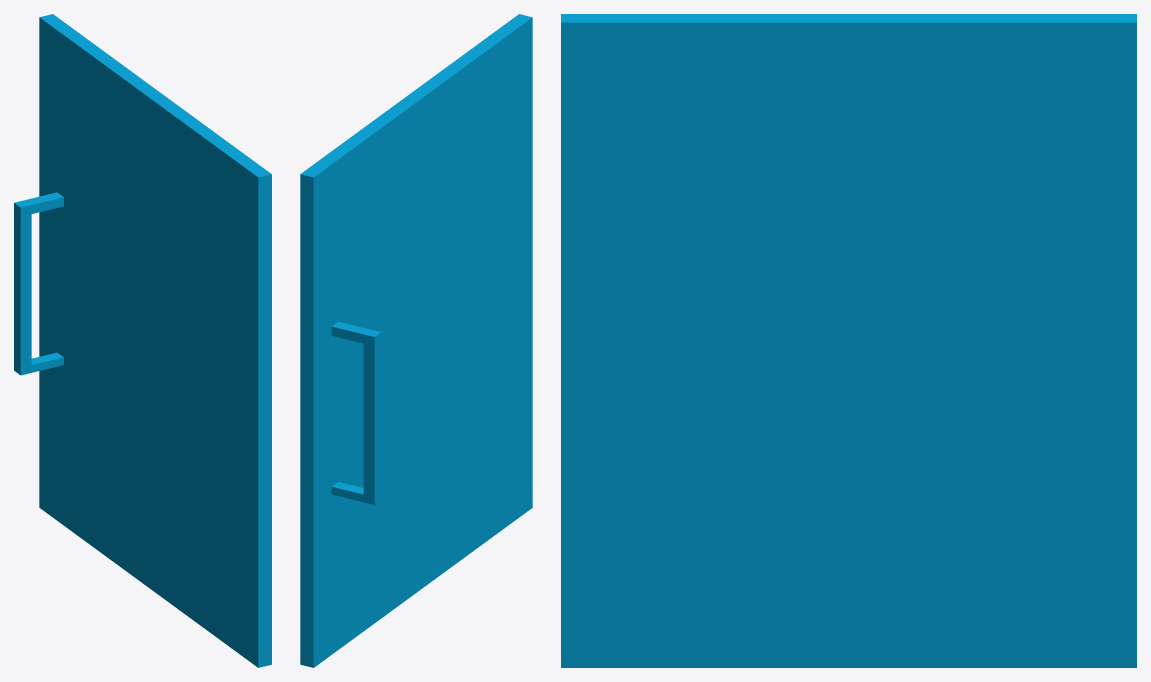
File: Office_Cupboard_02_Door_01_Lod0.fbx
The picture shows the model from 3 angles, left to right: view 1: azimuth 30°, elevation 25°; view 2: azimuth 150°, elevation 25°; view 3: azimuth 270°, elevation 25°; orthographic projection. The views are drawn at different scales.
Parts seen in each view (by area): view 1: Office_Cupboard_02_Door_01_Lod0; view 2: Office_Cupboard_02_Door_01_Lod0; view 3: Office_Cupboard_02_Door_01_Lod0.
Boxes of the visible parts, <box> form: Office_Cupboard_02_Door_01_Lod0: <box>14,14,271,667</box>; Office_Cupboard_02_Door_01_Lod0: <box>300,14,532,667</box>; Office_Cupboard_02_Door_01_Lod0: <box>561,14,1136,667</box>.
Size of the model in its own units: 4.3 by 35.62 by 28.81.
